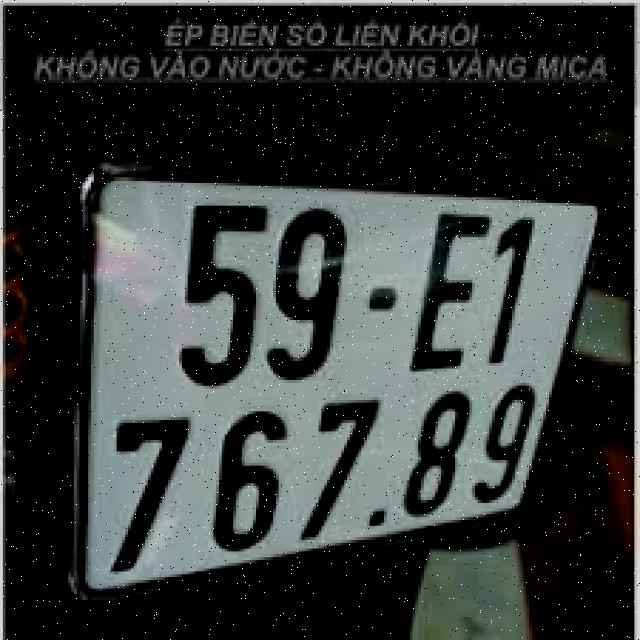1: (485, 211, 539, 366)
5: (174, 197, 268, 389)
6: (209, 406, 289, 554)
7: (104, 410, 192, 576), (297, 394, 380, 540)
8: (400, 387, 470, 519)
9: (263, 205, 349, 382), (472, 383, 535, 506)
E: (408, 207, 488, 370)
